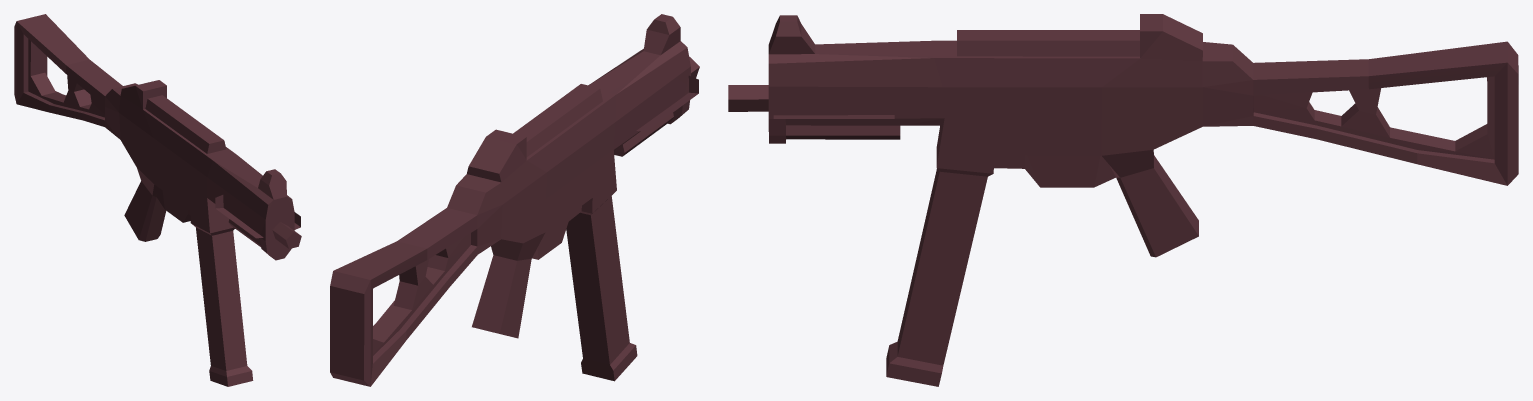
The model's file is weapons-smg-compact.glb.
3 renders of one model, left to right at view 1: azimuth 30°, elevation 25°; view 2: azimuth 150°, elevation 25°; view 3: azimuth 270°, elevation 25°, orthographic. The views are drawn at different scales.
Visible parts, largest first — view 1: SM_SMG_Compact; view 2: SM_SMG_Compact; view 3: SM_SMG_Compact.
Part boxes in pixels (<box>): SM_SMG_Compact: <box>14,14,301,386</box>; SM_SMG_Compact: <box>330,14,699,386</box>; SM_SMG_Compact: <box>728,14,1518,386</box>.
Size of the model in its own units: 0.0675 by 0.3473 by 0.692.
